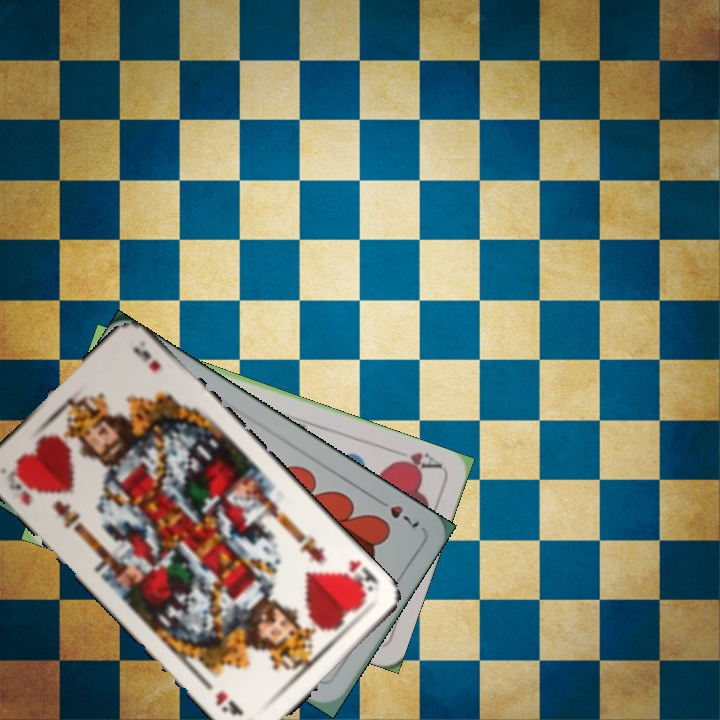H7: (371, 494, 422, 531)
HA: (386, 445, 444, 475)
HK: (339, 556, 382, 599), (3, 471, 37, 508)
